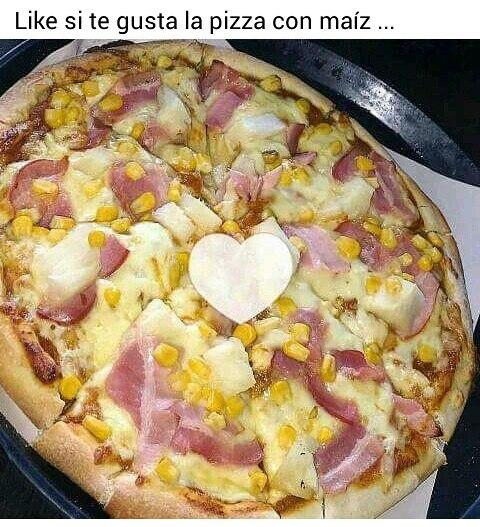Corn: (79, 414, 114, 442), (152, 338, 181, 370), (196, 382, 226, 412), (185, 352, 214, 381), (56, 373, 83, 401), (331, 235, 362, 259), (318, 349, 338, 385), (91, 203, 125, 224), (154, 457, 180, 484), (190, 146, 216, 173), (40, 106, 68, 131), (161, 369, 191, 392), (196, 408, 226, 431), (269, 294, 296, 319), (128, 191, 156, 215), (293, 408, 316, 436), (222, 392, 244, 421), (359, 345, 384, 370), (312, 424, 335, 451), (360, 272, 383, 299), (274, 423, 296, 451), (288, 320, 310, 348), (173, 146, 196, 172), (231, 321, 253, 348), (196, 319, 220, 343), (284, 339, 311, 360), (351, 153, 378, 174), (64, 97, 84, 125), (267, 381, 290, 405), (416, 340, 438, 365), (107, 214, 133, 235), (33, 179, 60, 199), (246, 470, 268, 494), (46, 226, 70, 248), (48, 214, 79, 231), (383, 273, 403, 299), (379, 224, 398, 251), (10, 214, 31, 238), (288, 231, 309, 255), (425, 239, 446, 263), (361, 214, 381, 239), (86, 228, 109, 249), (50, 87, 73, 108), (96, 95, 124, 112), (293, 96, 314, 118), (258, 146, 281, 166), (180, 379, 199, 403), (272, 166, 294, 186), (292, 166, 315, 185), (115, 138, 140, 155), (78, 77, 99, 97), (415, 250, 434, 272), (124, 162, 147, 180), (105, 284, 122, 308), (314, 119, 335, 138), (257, 203, 279, 221), (221, 219, 246, 234), (381, 329, 397, 351), (398, 247, 414, 269), (0, 199, 13, 226), (327, 137, 344, 157), (128, 120, 146, 138), (164, 182, 181, 201), (413, 233, 431, 249), (154, 54, 173, 69), (299, 206, 315, 223), (31, 224, 46, 241)
Ham: (100, 333, 268, 466), (261, 308, 361, 426), (114, 329, 179, 478), (70, 68, 162, 151), (326, 218, 425, 281), (313, 425, 387, 496), (6, 151, 76, 226), (227, 149, 320, 200), (194, 57, 256, 133), (386, 267, 445, 346), (279, 219, 355, 276), (367, 152, 423, 228), (106, 157, 177, 211), (35, 274, 99, 326), (385, 384, 444, 439), (328, 344, 390, 386), (329, 136, 372, 186), (97, 233, 134, 281), (138, 115, 175, 153), (283, 117, 306, 154)
Olives: (0, 41, 478, 517)
